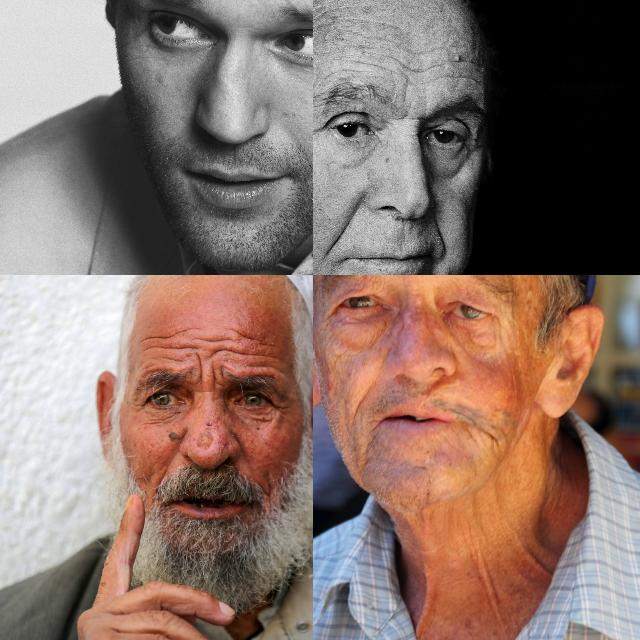crows_feet: (128, 396, 148, 412), (270, 400, 290, 414), (313, 122, 327, 139)
forehead: (350, 39, 422, 77), (434, 51, 478, 88), (339, 10, 397, 30), (237, 342, 273, 370), (200, 333, 236, 355), (238, 328, 270, 348), (147, 342, 200, 354), (171, 319, 197, 339), (142, 328, 168, 344)
frown_line: (193, 356, 207, 389), (208, 363, 225, 389), (399, 79, 413, 105), (395, 112, 421, 126)
gummy_smile: (329, 188, 365, 252), (429, 213, 453, 259), (345, 385, 369, 423)
masseter: (467, 420, 503, 450)
